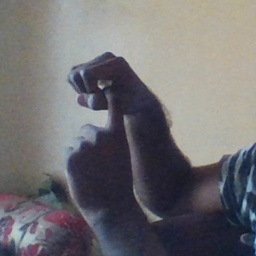Q: (53, 51, 154, 186)
